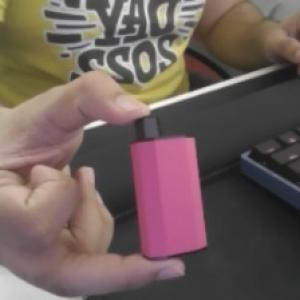Blume-E-Ciggirate: (130, 114, 213, 260)
